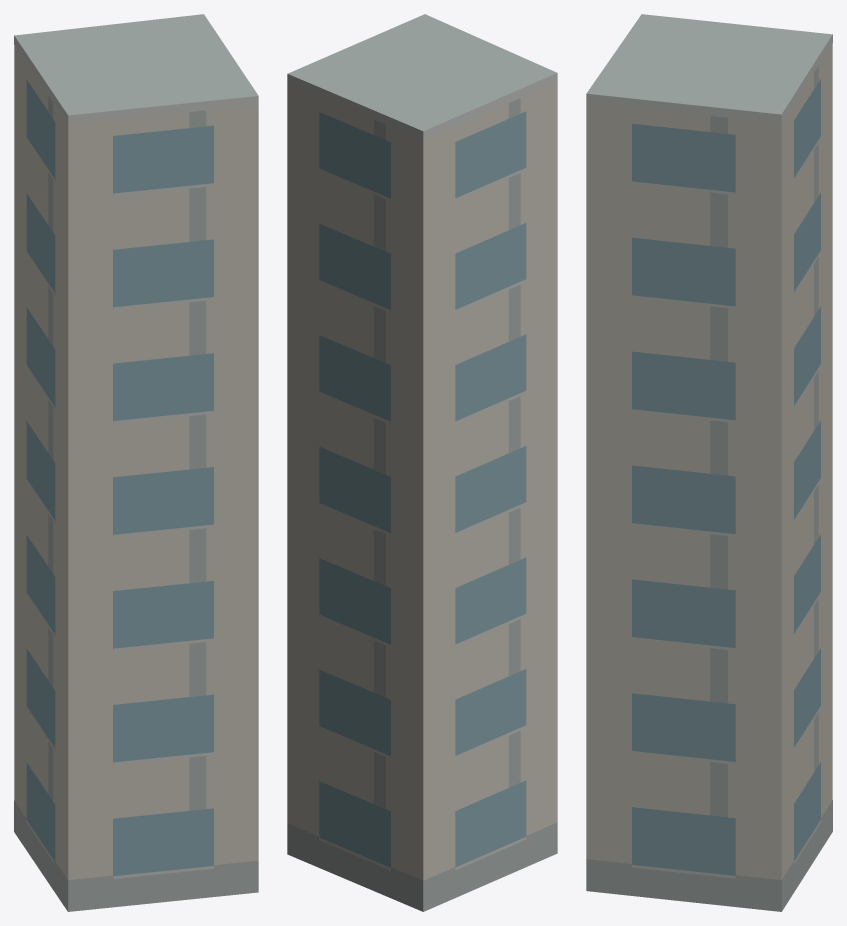
File: survey-upis-33045819.glb
The picture shows the model from 3 angles, left to right: view 1: azimuth 30°, elevation 25°; view 2: azimuth 150°, elevation 25°; view 3: azimuth 270°, elevation 25°; orthographic projection. The views are drawn at different scales.
Visible parts, largest first — view 1: survey-upis-33045819.tmp; view 2: survey-upis-33045819.tmp; view 3: survey-upis-33045819.tmp.
Boxes of the visible parts, box(x1,y1,x2,y2) form: survey-upis-33045819.tmp: box(14, 14, 258, 911); survey-upis-33045819.tmp: box(287, 14, 557, 911); survey-upis-33045819.tmp: box(586, 14, 832, 911).
Bounding box in the file's own units: 5.78 × 21.35 × 5.99.
